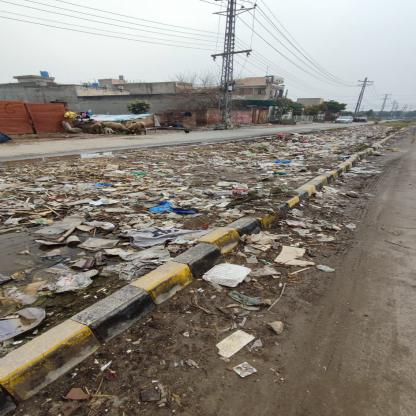Garbage: (5, 137, 361, 284)
